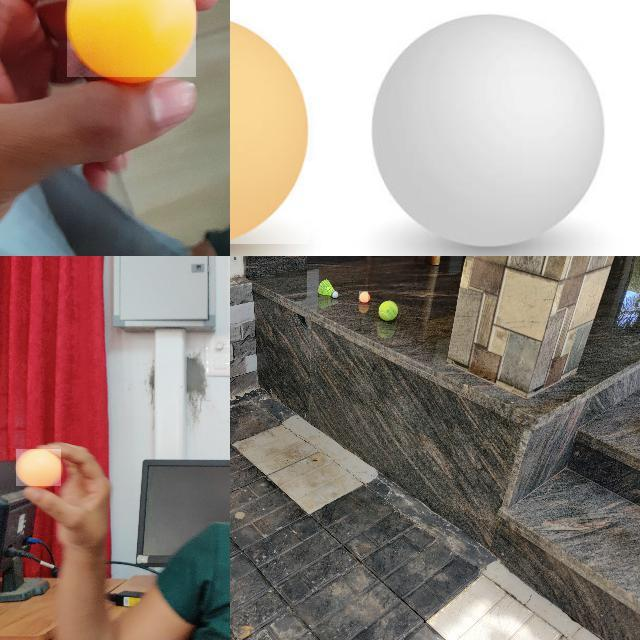ping-pong-ball: (230, 13, 310, 245), (67, 0, 198, 79), (16, 449, 62, 487), (358, 291, 369, 303)
